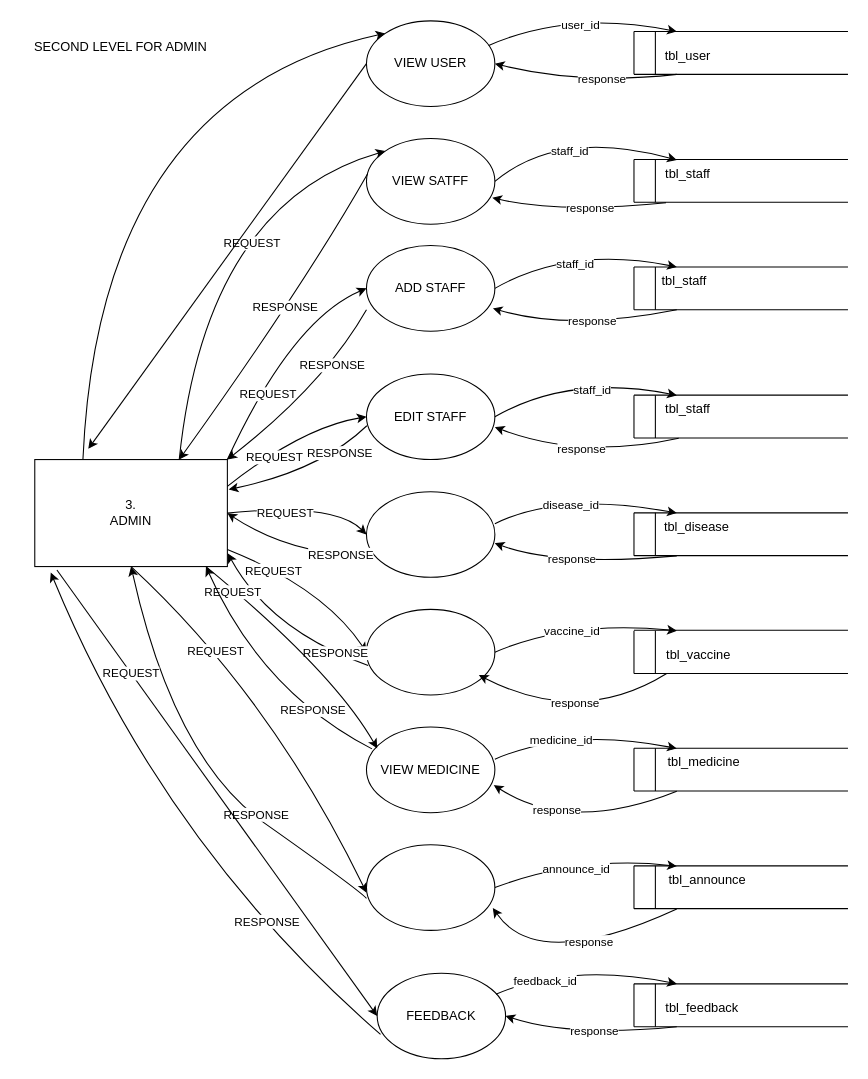
Some shapes in this 868 by 1079 pixel diagram are drawn without their labels. Here are the shapes that lost their labels. From the top down, the box of each, then its label:
(365, 491, 495, 577): ADD DISEASE
(365, 608, 495, 695): ADD VACCINE
(365, 844, 495, 930): ADD ANNOUNCEMENTS
